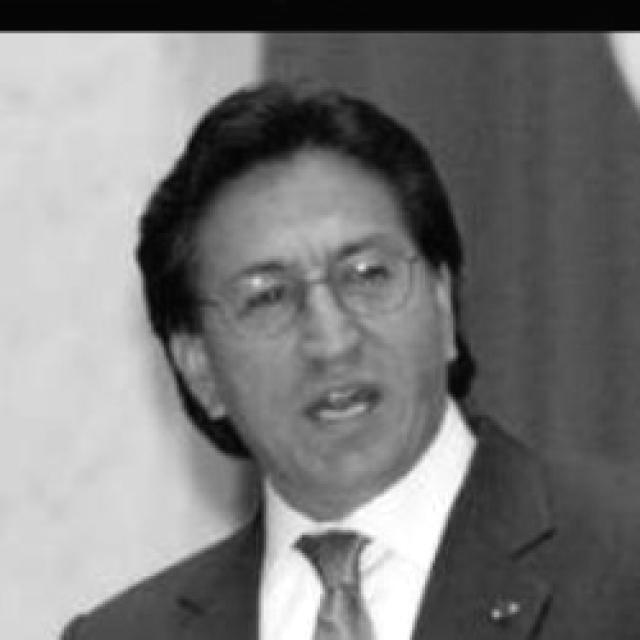real: (164, 144, 452, 492), (212, 259, 424, 322)
